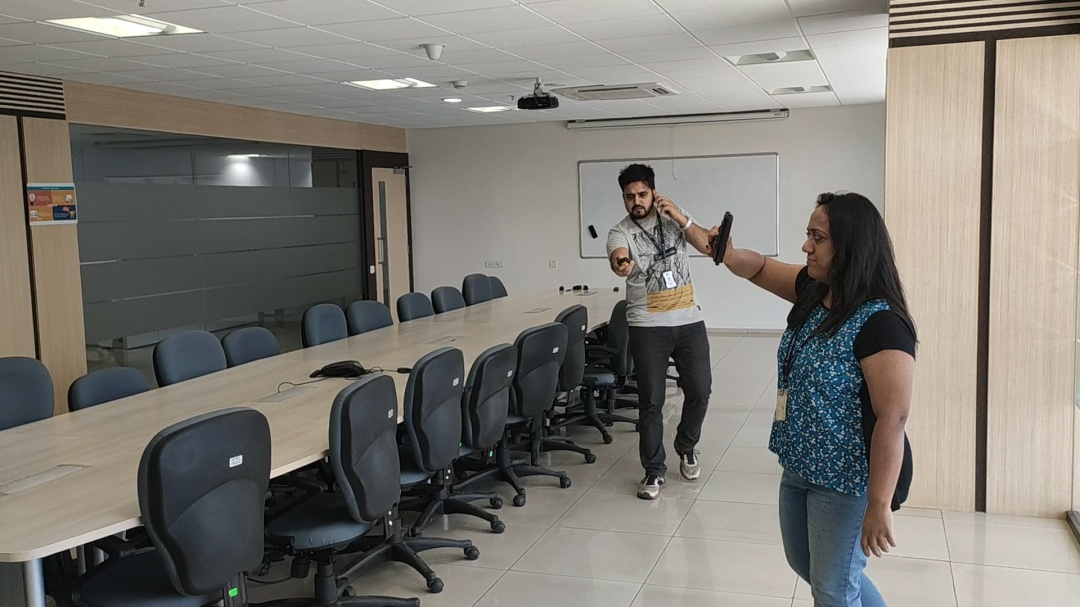gun: (709, 210, 735, 268)
